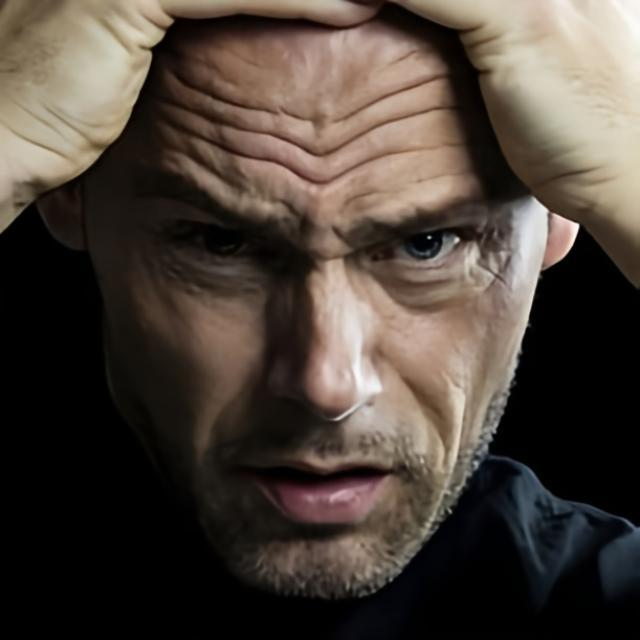disgust: (84, 0, 552, 598)
